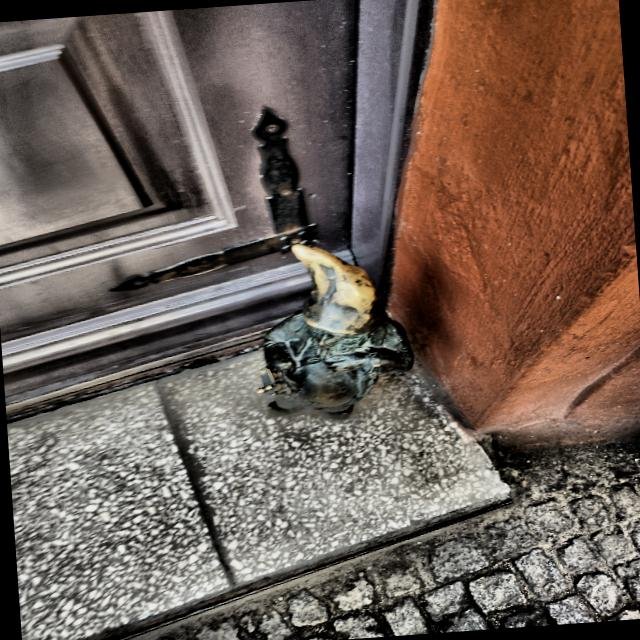TatuazystaKonstanty: (258, 244, 413, 418)
